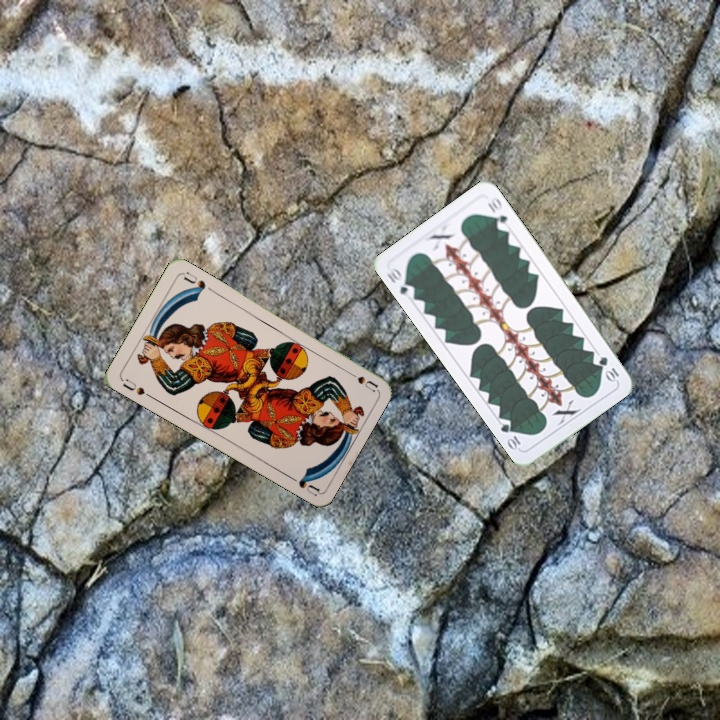G10: (383, 263, 418, 301), (595, 352, 622, 384)
SU: (341, 366, 380, 394), (119, 374, 155, 401)
